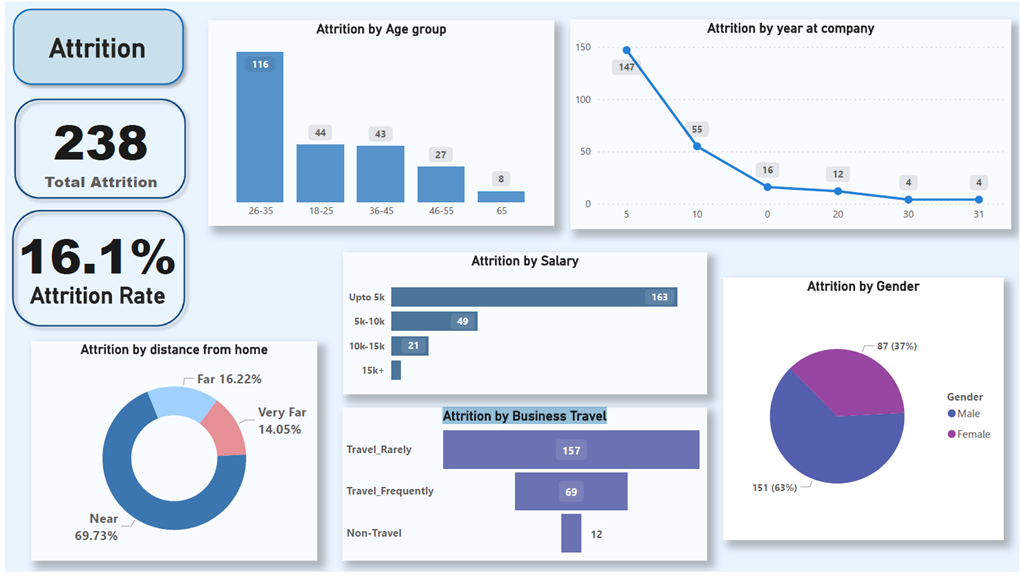

The dashboard page shown, as its layout file describes it:
{"tool":"powerbi","page":{"name":"ATTRITION","canvas":[1280,720],"ordinal":1},"visuals":[{"type":"donutChart","title":"Attrition by distance from home ","fields":{"Category":["Dataset.distancefhome status"],"Y":["CountNonNull(Dataset.Attrition)"]},"box":[32.5,428.8,361.2,277.5],"z":0},{"type":"columnChart","title":" Attrition by Age group","fields":{"Y":["CountNonNull(Attrited.Attrition)"],"Category":["Attrited.Age group"]},"box":[257.1,24.3,435.7,258.6],"z":1000},{"type":"lineChart","title":"Attrition by year at company","fields":{"Y":["CountNonNull(Attrited.Attrition)"],"Category":["Attrited.year at company"]},"box":[714.3,22.9,555.7,264.3],"z":2000},{"type":"pieChart","title":" Attrition by Gender","fields":{"Y":["CountNonNull(Attrited.Attrition)"],"Category":["Attrited.Gender"]},"box":[907.1,348.6,352.9,331.4],"z":3000},{"type":"funnel","title":" Attrition by Business Travel","fields":{"Category":["Attrited.BusinessTravel"],"Y":["CountNonNull(Attrited.Attrition)"]},"box":[425.7,512.9,460,192.9],"z":4000},{"type":"clusteredBarChart","title":"Attrition by Salary","fields":{"Y":["CountNonNull(Attrited.Attrition)"],"Category":["Attrited.SalarySlab"]},"box":[427.1,317.1,458.6,178.6],"z":5000},{"type":"card","fields":{"Values":["All measures.Total Attrition"]},"box":[15,133.8,210,106.2],"z":6000,"group":"g1"},{"type":"card","fields":{"Values":["All measures.% attrition"]},"box":[7.5,273.8,217.5,86.2],"z":6000},{"type":"shape","box":[1.2,0,232.5,113.8],"z":7000},{"type":"shape","box":[2.5,113.8,233.8,143.8],"z":7003,"group":"g1"},{"type":"textbox","box":[32.5,33.8,167.5,48.8],"z":8000},{"type":"shape","box":[0,253.8,236.2,165],"z":9000},{"type":"group","id":"g1","title":"Group 1","box":[2.5,113.8,233.8,143.8],"z":10000},{"type":"textbox","box":[20,348.8,193.8,48.8],"z":11000}]}

Visuals, with their boxes in screenshot pixels (x1, y1, x2, y2), scaled from the page's 1280x720 canvas onto the 1021x576 screenshot:
"Attrition by distance from home " donutChart: box(26, 343, 314, 565)
" Attrition by Age group" columnChart: box(205, 19, 553, 226)
"Attrition by year at company" lineChart: box(570, 18, 1013, 230)
" Attrition by Gender" pieChart: box(724, 279, 1005, 544)
" Attrition by Business Travel" funnel: box(340, 410, 706, 565)
"Attrition by Salary" clusteredBarChart: box(341, 254, 706, 397)
card - All measures.Total Attrition: box(12, 107, 179, 192)
card - All measures.% attrition: box(6, 219, 179, 288)
shape: box(1, 0, 186, 91)
shape: box(2, 91, 188, 206)
textbox: box(26, 27, 160, 66)
shape: box(0, 203, 188, 335)
"Group 1" group: box(2, 91, 188, 206)
textbox: box(16, 279, 171, 318)
